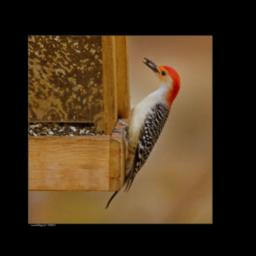Woodpecker: (104, 57, 181, 210)
